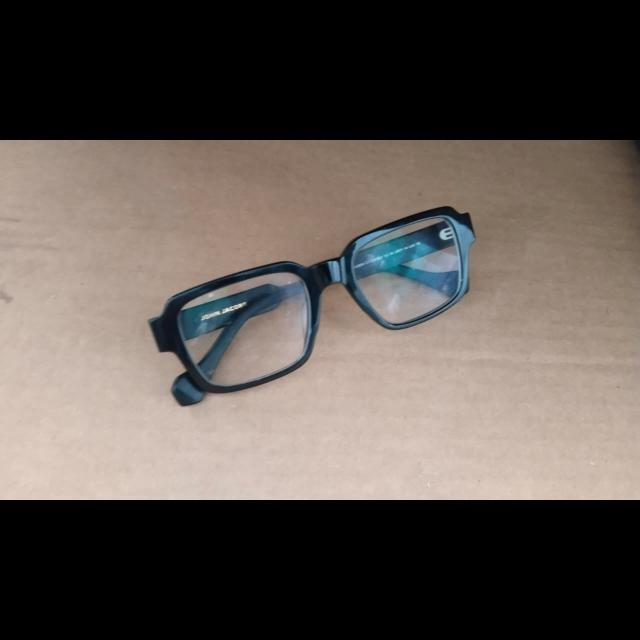glasses: (149, 208, 467, 406)
